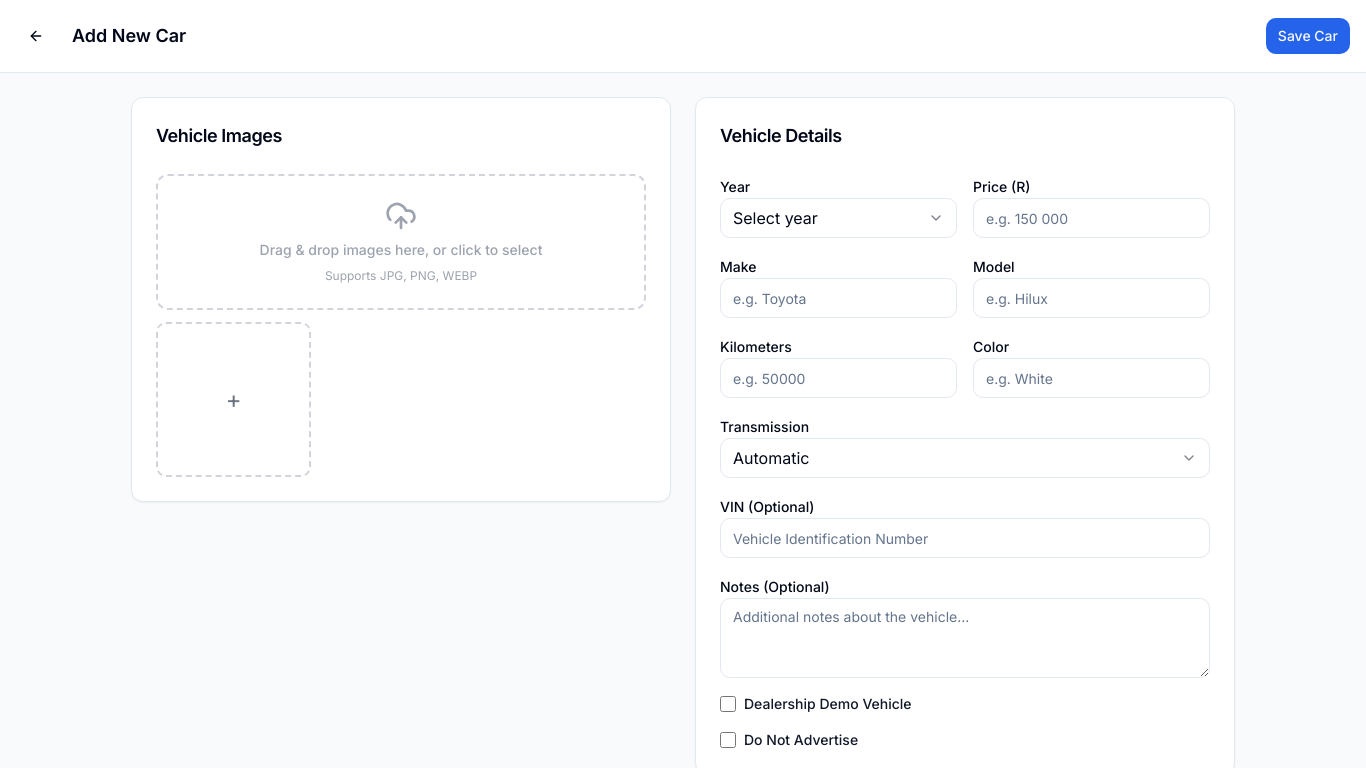
Do Not Advertise Feature › AddEditCar Component › should toggle the "Do Not Advertise" checkbox
Click the checkbox labelled "Do Not Advertise": click(728, 740) [720,732,736,748]
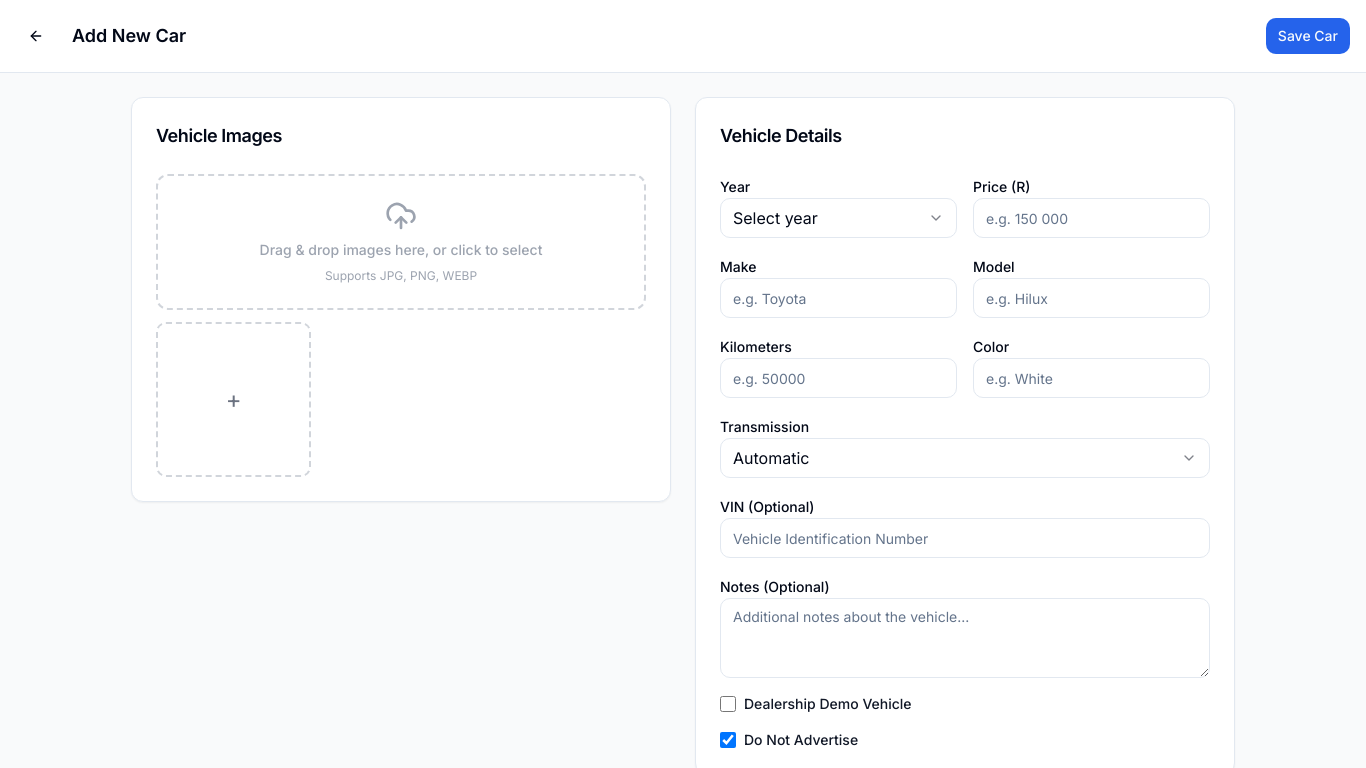
Expected: the checkbox labelled "Do Not Advertise" is checked
Click the checkbox labelled "Do Not Advertise": click(728, 740) [720,732,736,748]
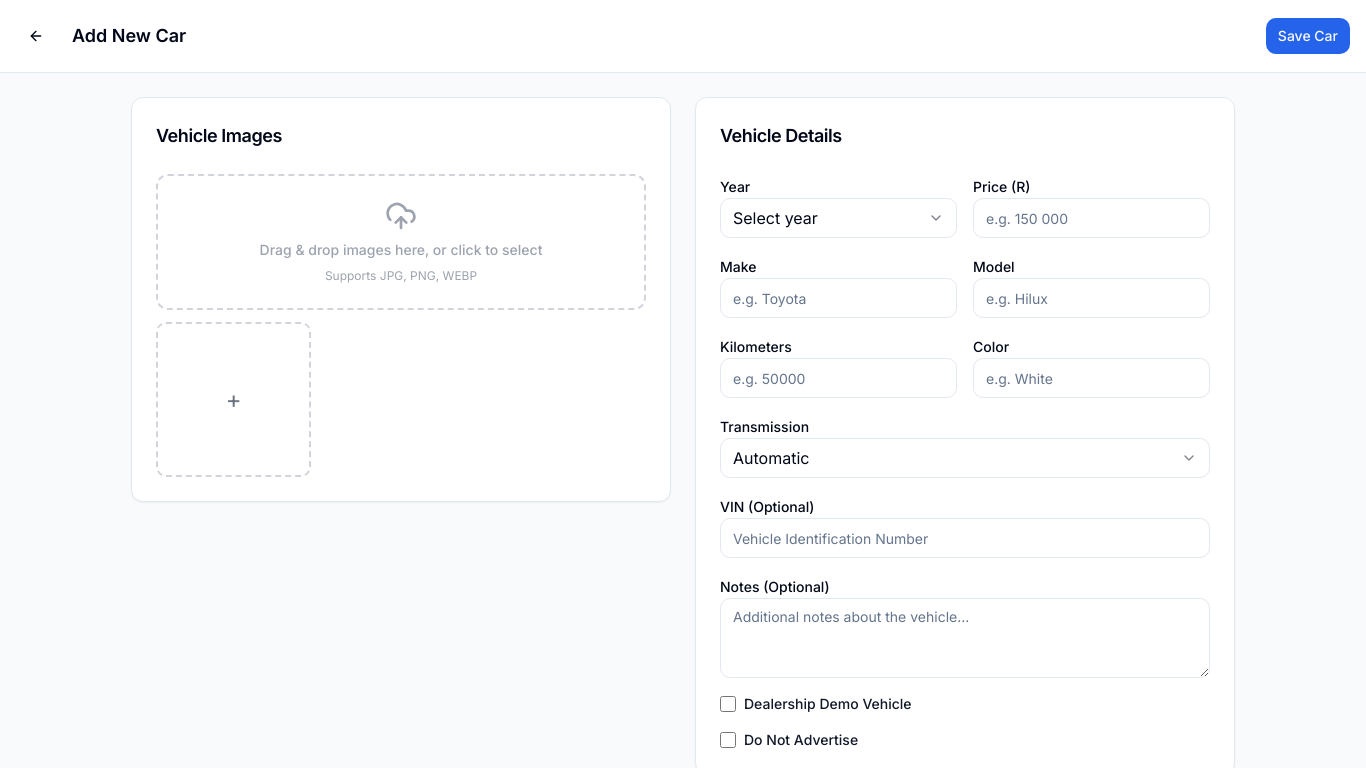
Expected: the checkbox labelled "Do Not Advertise" is not checked, [720,732,736,748]
